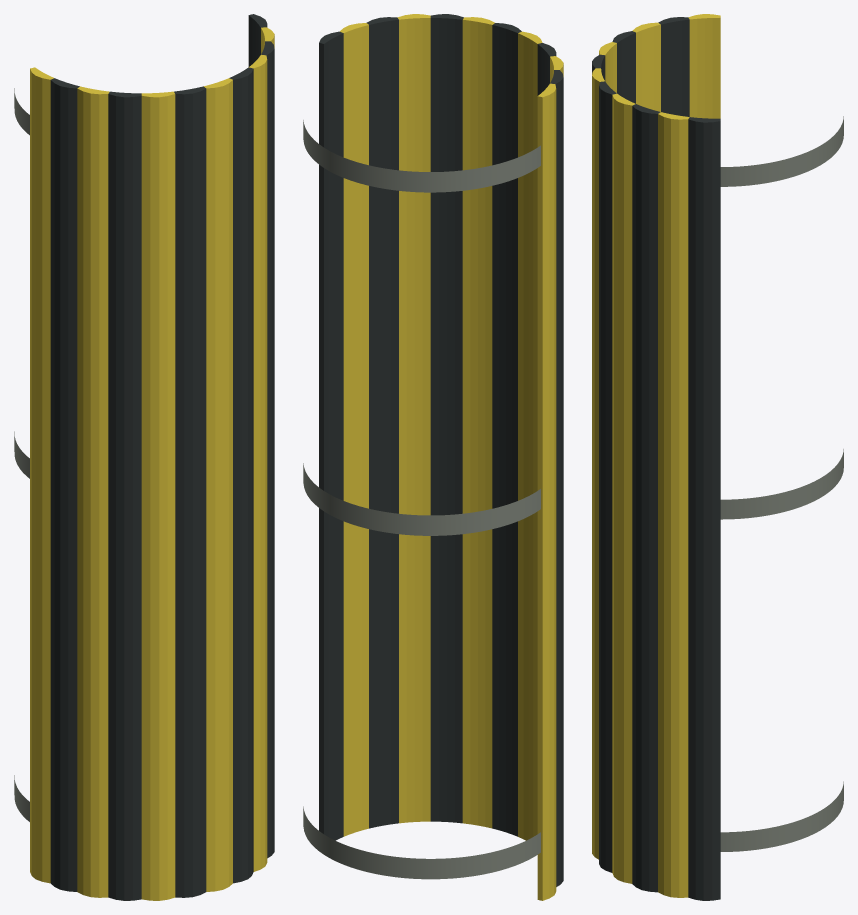
Rendered from pole-approved-v1.glb.
3 renders of one model, left to right at view 1: azimuth 30°, elevation 25°; view 2: azimuth 150°, elevation 25°; view 3: azimuth 270°, elevation 25°, orthographic. The views are drawn at different scales.
Visible parts, largest first — view 1: 전주 하단 보호대; view 2: 전주 하단 보호대; view 3: 전주 하단 보호대.
Boxes of the visible parts, bbox=[...] form: 전주 하단 보호대: bbox=[14, 14, 274, 900]; 전주 하단 보호대: bbox=[303, 14, 563, 900]; 전주 하단 보호대: bbox=[592, 14, 843, 900].
Bounding box in the file's own units: 0.3292 × 1.1 × 0.3226.
